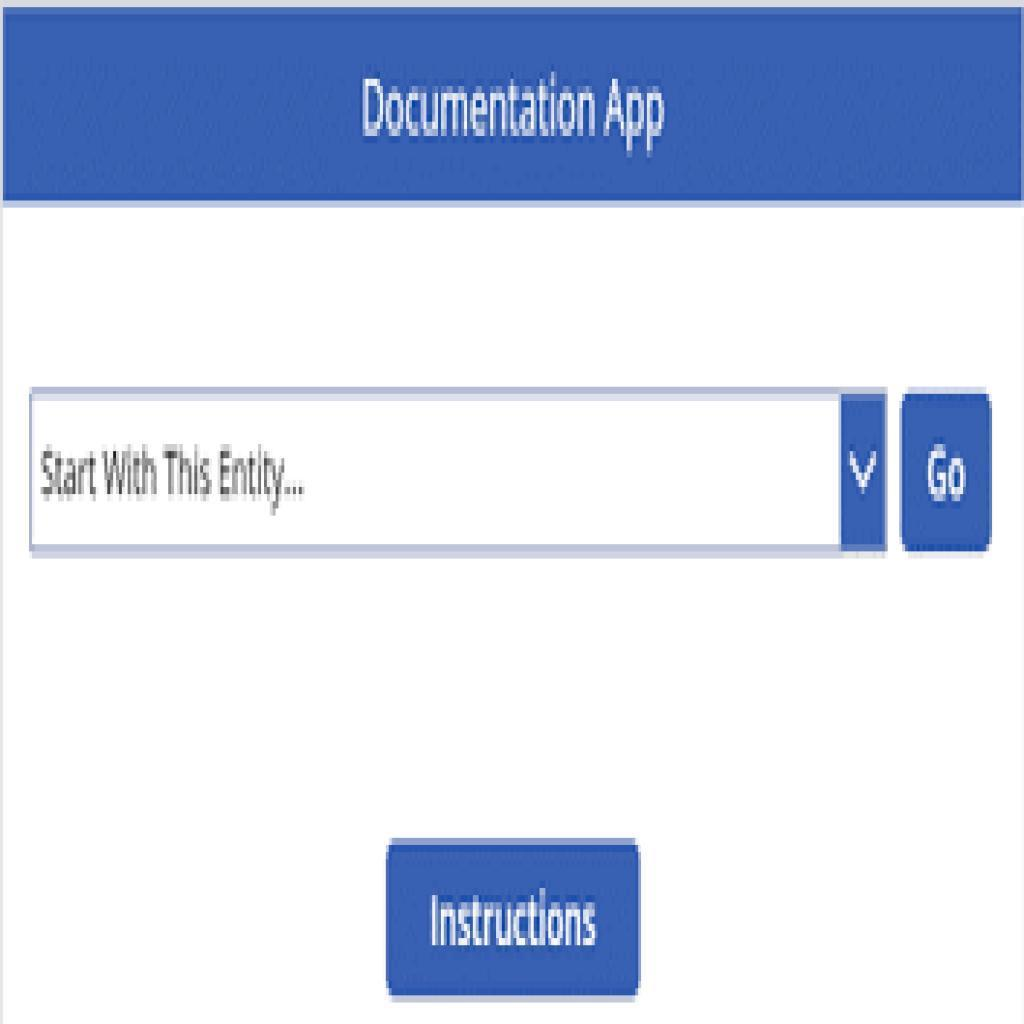button: (390, 844, 640, 999), (904, 391, 990, 556)
dropdown: (30, 388, 889, 554)
